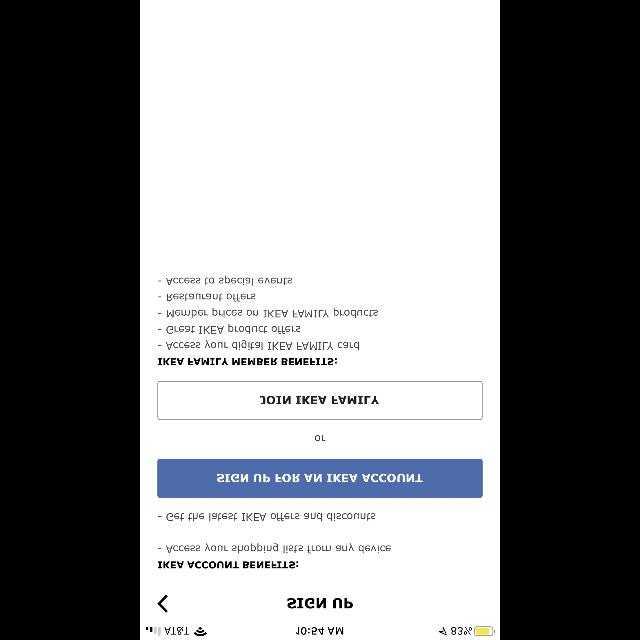icon: (158, 595, 168, 613)
text: (157, 542, 390, 554), (158, 308, 378, 318), (158, 340, 360, 350), (158, 513, 376, 521), (158, 358, 338, 366), (158, 324, 300, 334), (158, 275, 292, 285), (158, 562, 298, 568), (158, 293, 255, 301), (287, 598, 353, 608), (315, 435, 325, 441)
textbutton: (158, 380, 482, 420), (158, 458, 482, 498)
uppertaskbar: (140, 626, 500, 640)
